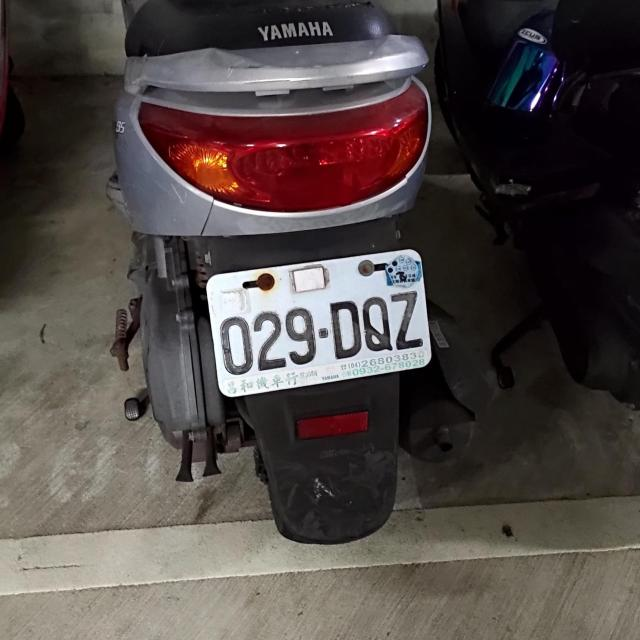W: (201, 246, 433, 398)
